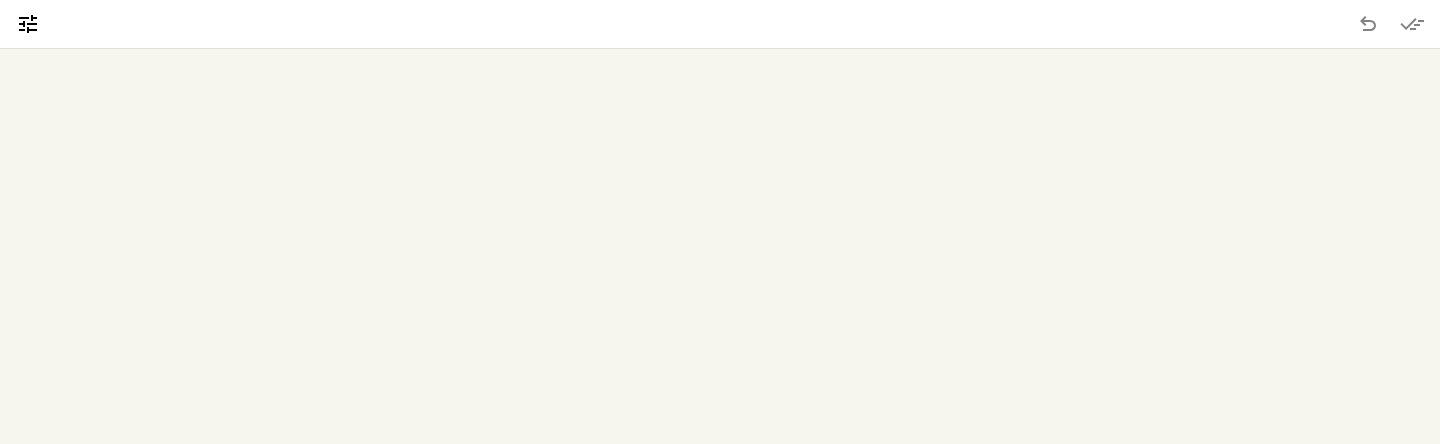
Test: <ListToolbar> › clicking the customize button reveals the panel and a Reset button
Click the button with test id "hot-rule-card-toggle". click: (28, 24)
box: [8,4,48,44]
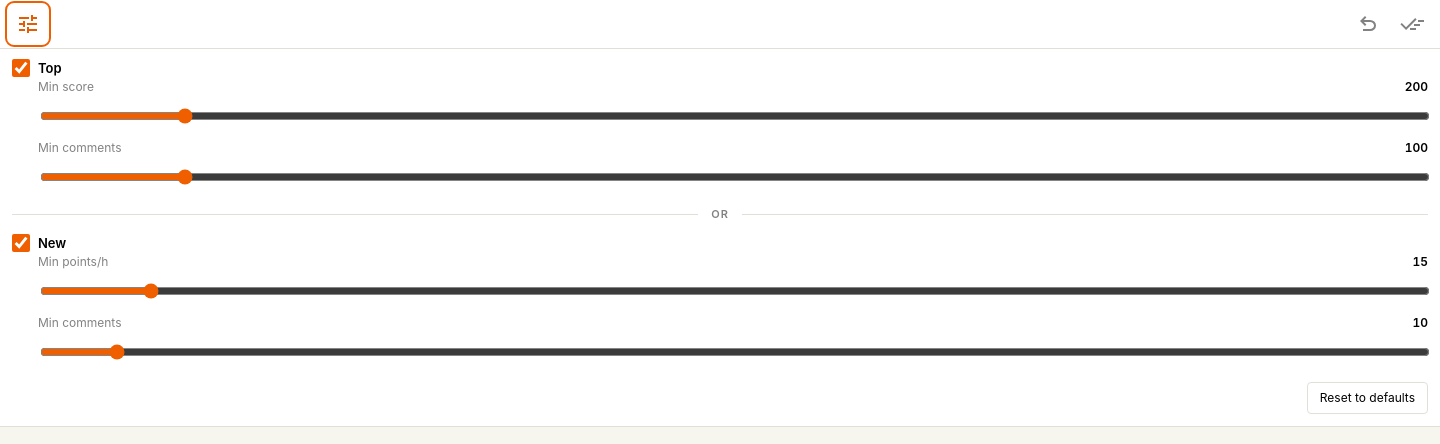
Expected: the button with test id "hot-rule-card-toggle" is expanded, [8,4,48,44]
Expected: the slider labelled "Min score 200" is shown, [40,100,1430,132]
Expected: the number of sliders labelled "Min comments 100" is 2, [40,161,1430,193]; [40,336,1430,368]
